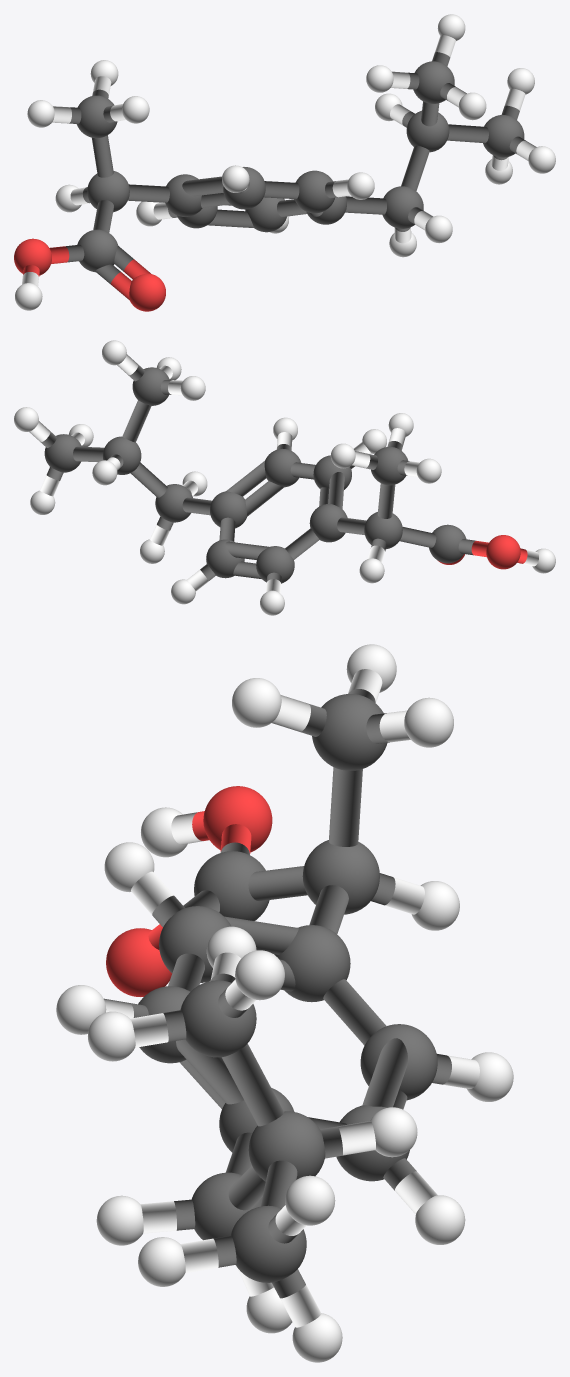
File: ibuprofen.glb
3 renders of one model, top to bottom at view 1: azimuth 30°, elevation 25°; view 2: azimuth 150°, elevation 25°; view 3: azimuth 270°, elevation 25°, orthographic. The views are drawn at different scales.
Visible parts, largest first — view 1: ibuprofen; view 2: ibuprofen; view 3: ibuprofen.
Part boxes in pixels (x1,y1,x2,y2): ibuprofen: (14,14,555,311); ibuprofen: (14,340,555,615); ibuprofen: (56,644,513,1362).
Size of the model in its own units: 11.75 by 4.67 by 4.63.
